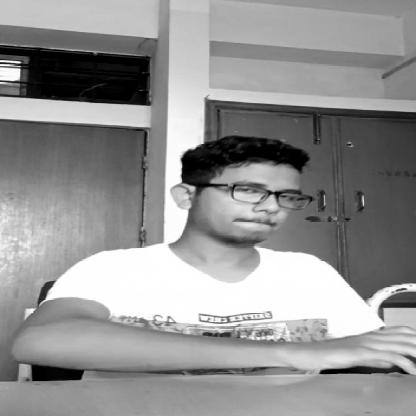Distracted: (180, 141, 314, 245)
